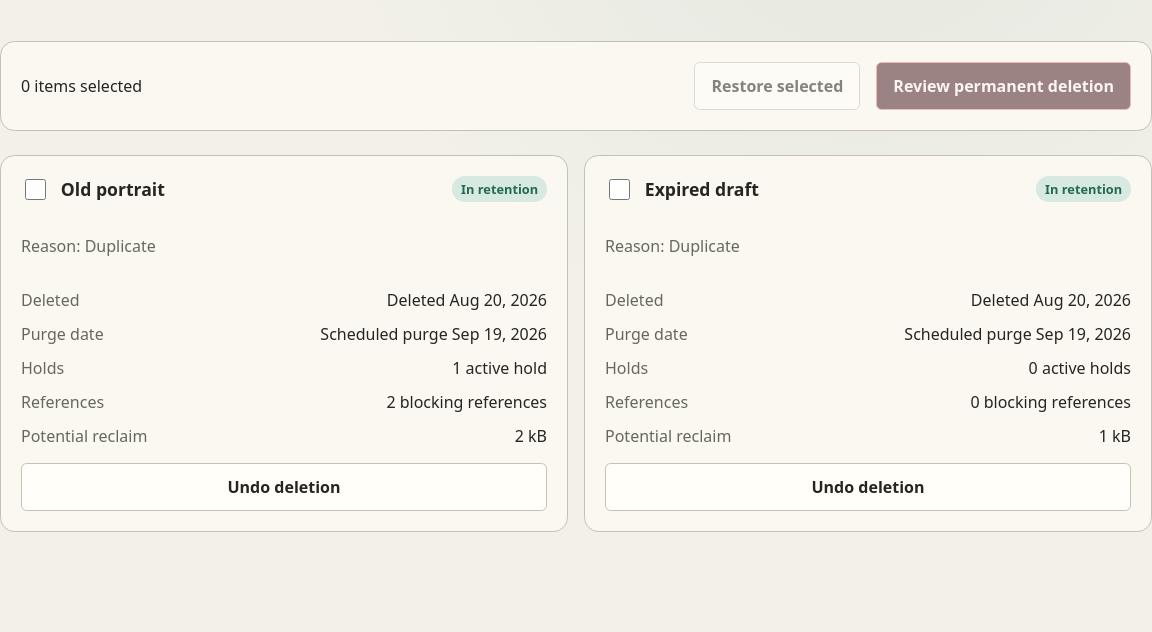
Test: trash › reloads purge status after an ETag conflict
Click the checkbox named "Select Old portrait": (35, 189) [25,179,46,200]
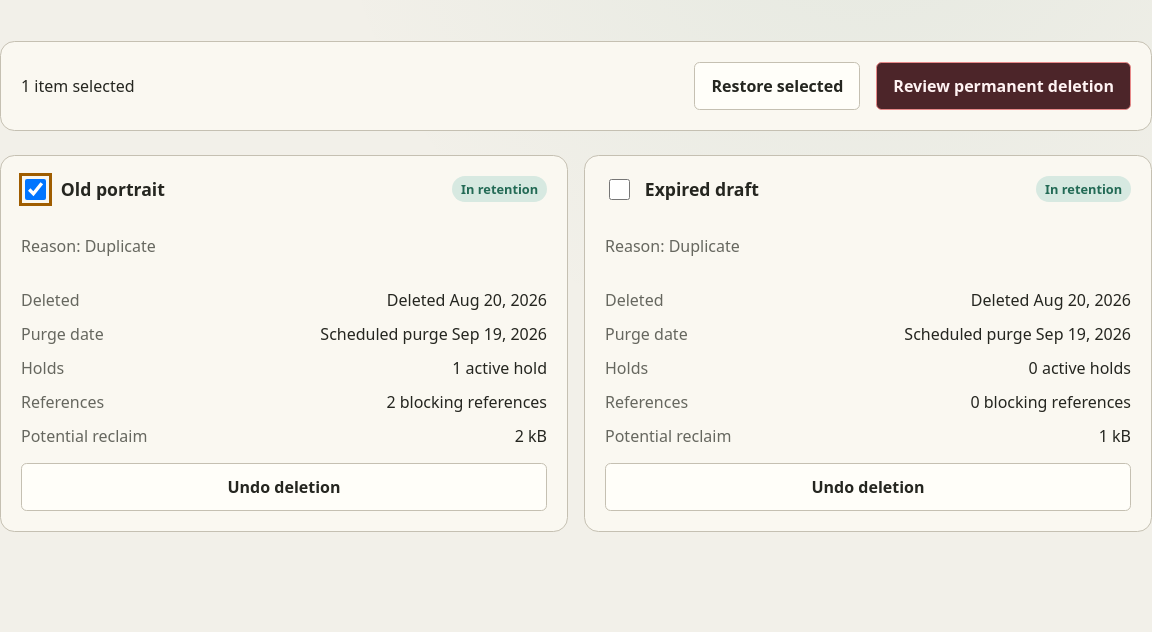
Click the checkbox named "Select Expired draft": (619, 189) [609,179,630,200]
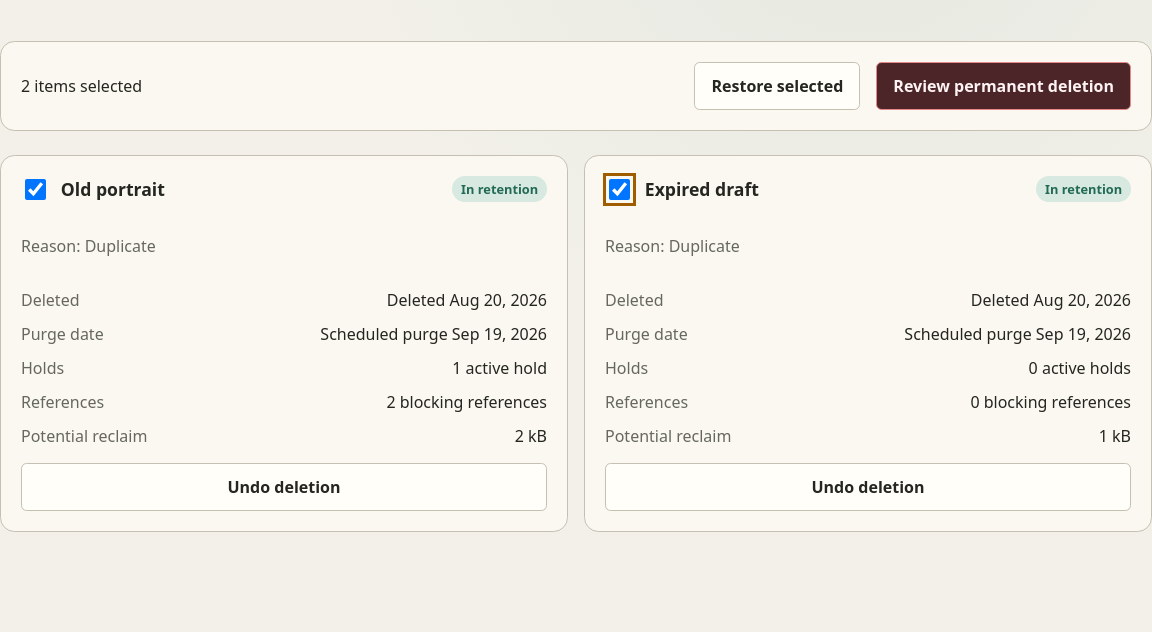
Click the button "Review permanent deletion": (1004, 86) [876,62,1131,110]
(page scrolled)
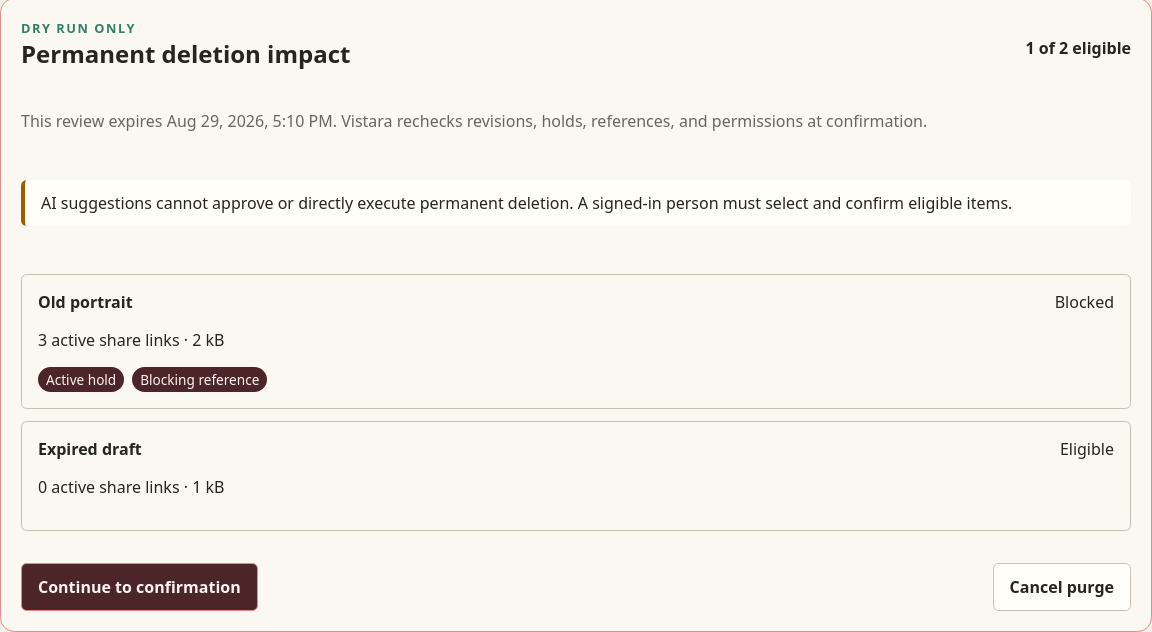
Click the button "Continue to confirmation": (139, 587) [21,563,258,611]
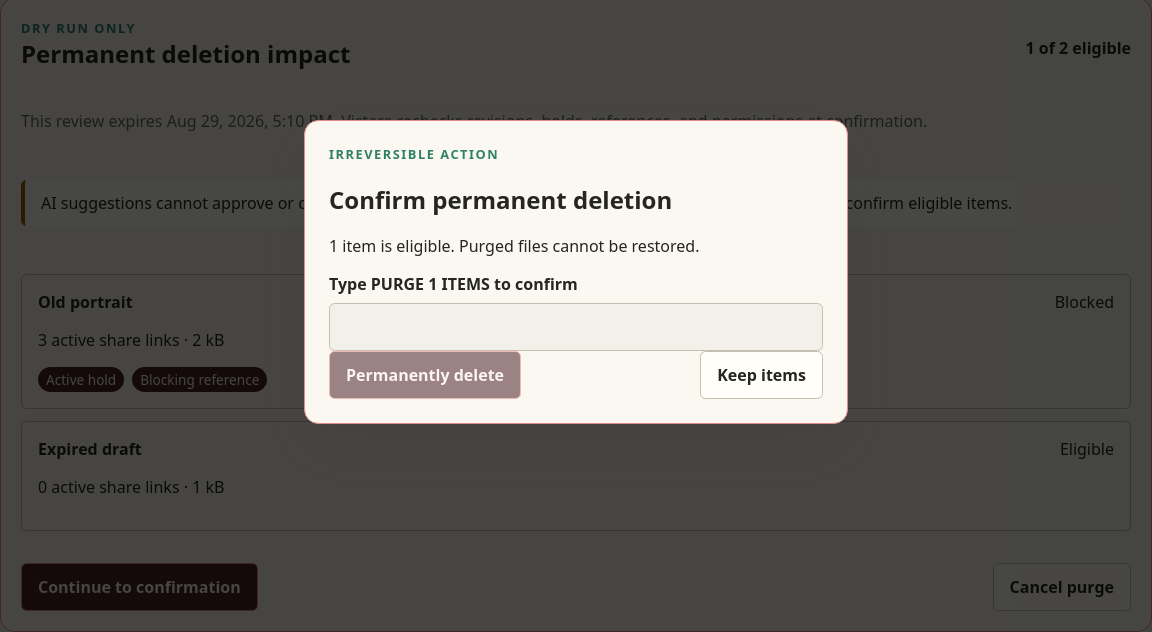
In the field labelled "Type PURGE 1 ITEMS to confirm": (576, 327) [329,303,823,351], type "PURGE 1 ITEMS"
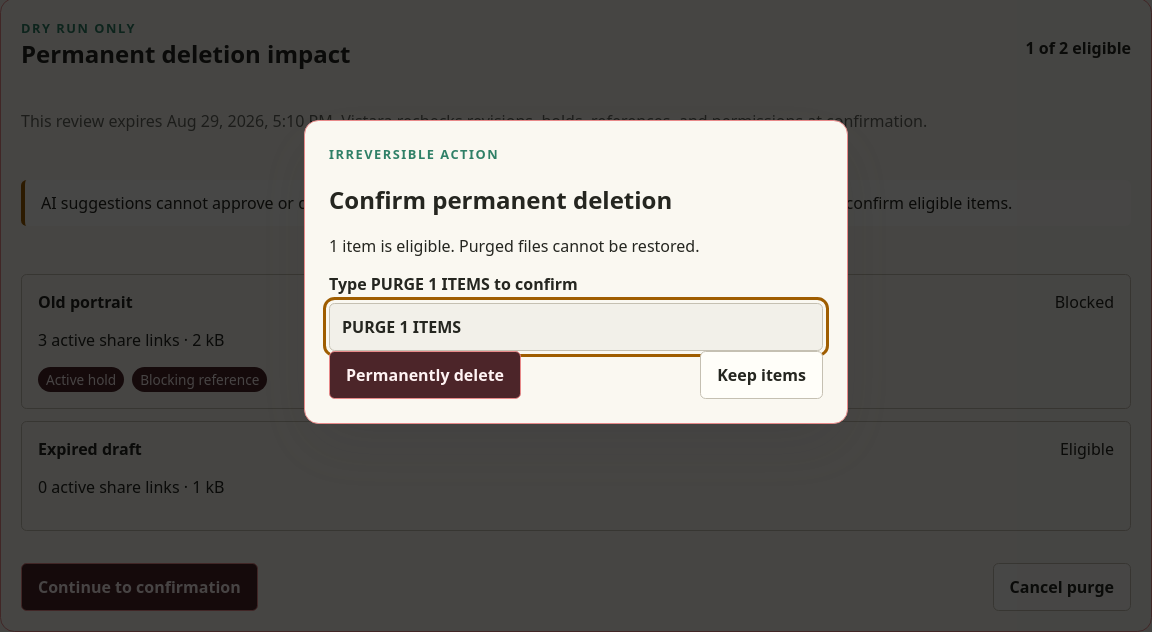
Click the button "Permanently delete": (425, 375) [329,351,521,399]
(page scrolled)
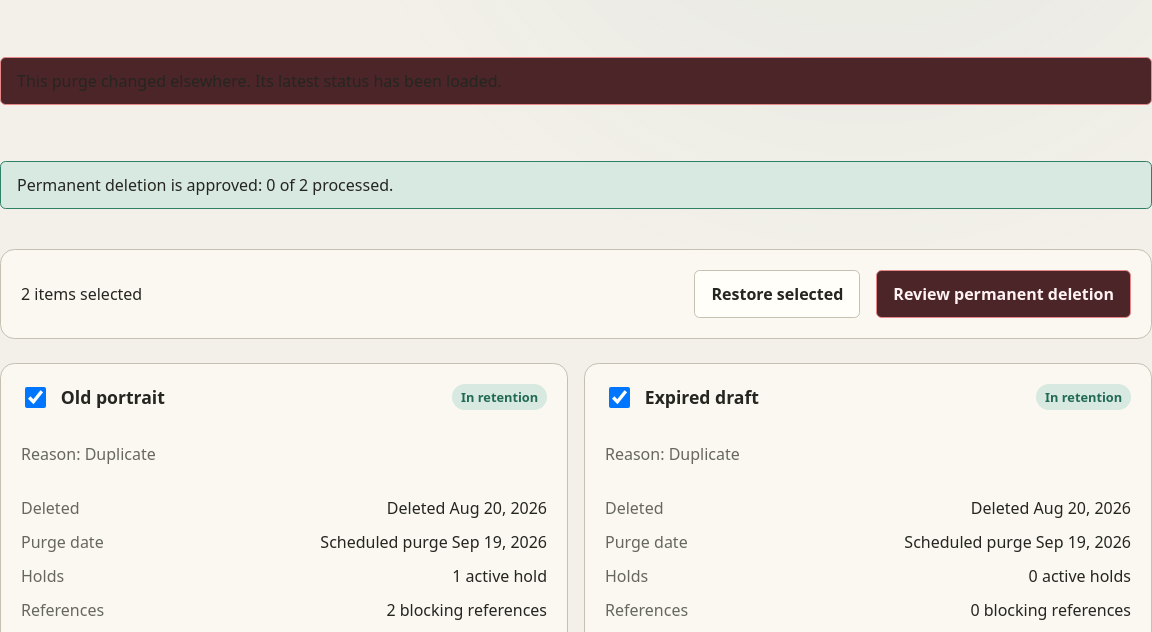
Expected: the message "This purge changed elsewhere. Its latest status has been loaded." is shown, [0,57,1151,105]
Expected: the message "Permanent deletion is approved: 0 of 2 processed." is shown, [0,161,1151,209]
